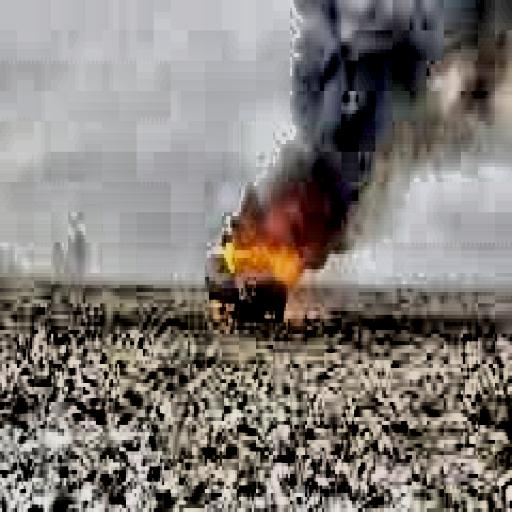fire: (205, 201, 309, 322)
